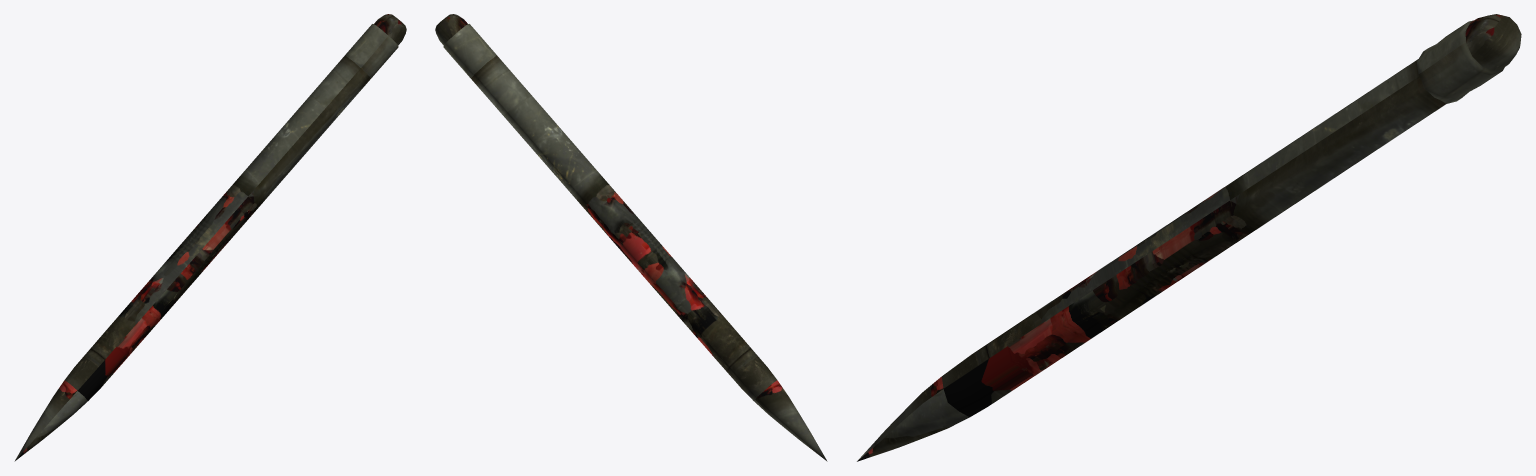
File: pencil.fbx
The picture shows the model from 3 angles, left to right: view 1: azimuth 30°, elevation 25°; view 2: azimuth 150°, elevation 25°; view 3: azimuth 330°, elevation 25°; orthographic projection. The views are drawn at different scales.
Parts seen in each view (by area): view 1: g; view 2: g; view 3: g.
Part boxes in pixels (left/top/right/bottom): g: left=14, top=14, right=406, bottom=461; g: left=435, top=14, right=827, bottom=461; g: left=857, top=14, right=1521, bottom=461.
Bounding box in the file's own units: 67.47 × 58.69 × 5.34.
